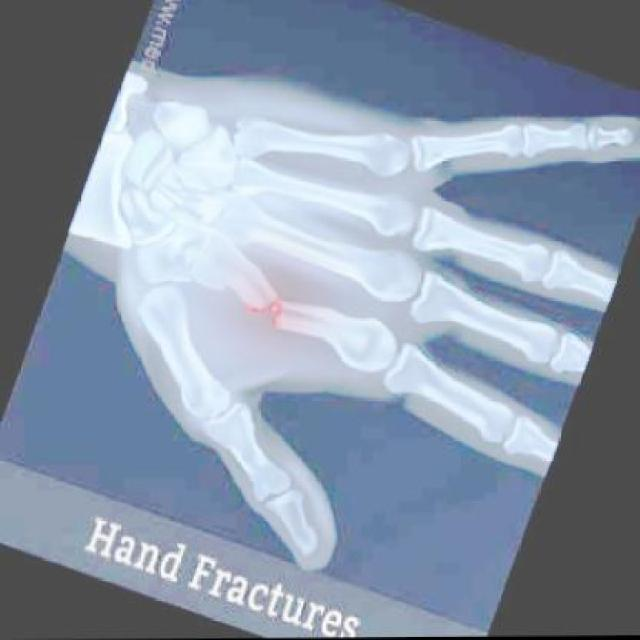Fracture: (231, 274, 307, 353)
